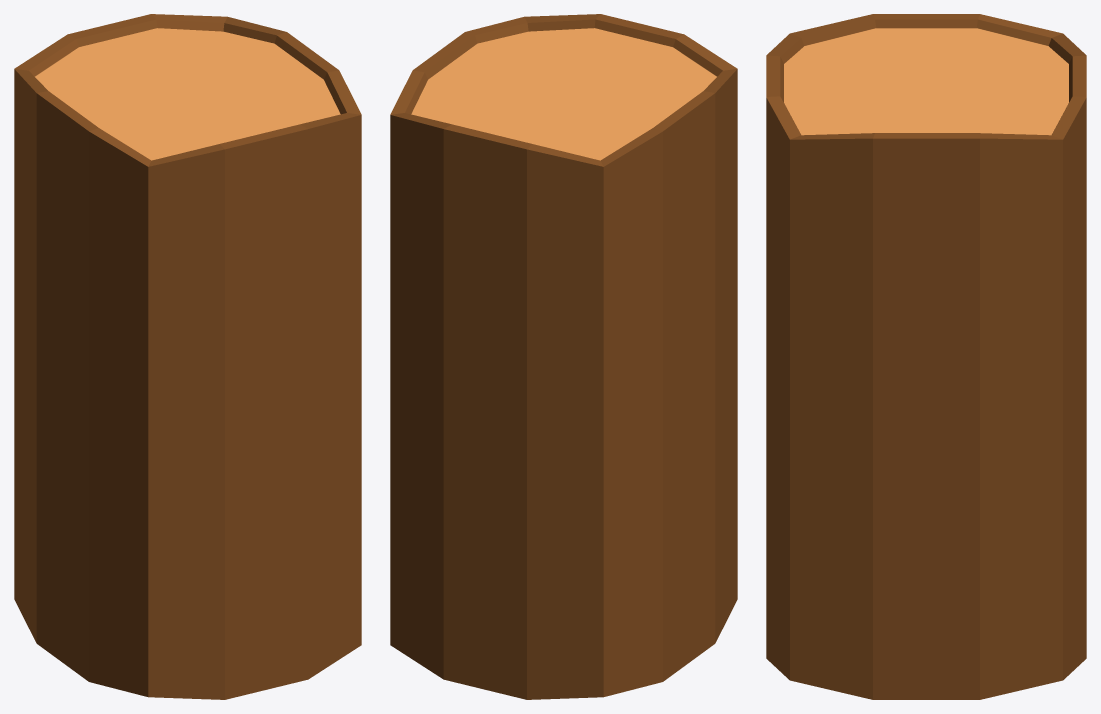
File: woodPick.fbx
3 renders of one model, left to right at view 1: azimuth 30°, elevation 25°; view 2: azimuth 150°, elevation 25°; view 3: azimuth 270°, elevation 25°, orthographic.
Parts seen in each view (by area): view 1: Cube; view 2: Cube; view 3: Cube.
Part boxes in pixels (x1=…): Cube: x1=14, y1=14, x2=361, y2=699; Cube: x1=390, y1=14, x2=737, y2=699; Cube: x1=766, y1=14, x2=1086, y2=699.
Size of the model in its own units: 43.12 by 90.6 by 46.89.
